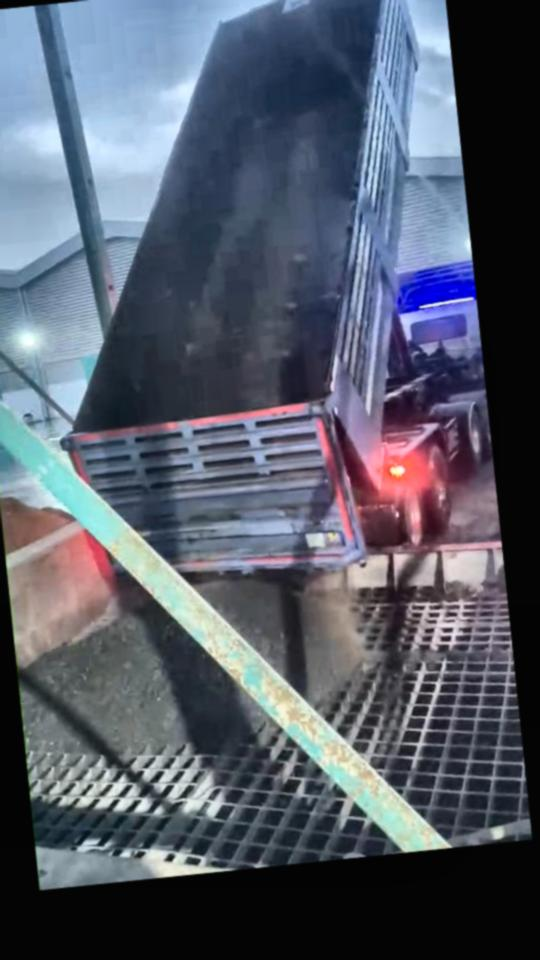gravel: (26, 577, 267, 763), (177, 217, 340, 415), (196, 576, 359, 703), (362, 640, 487, 672), (445, 580, 481, 600)
sand: (0, 497, 72, 557)
